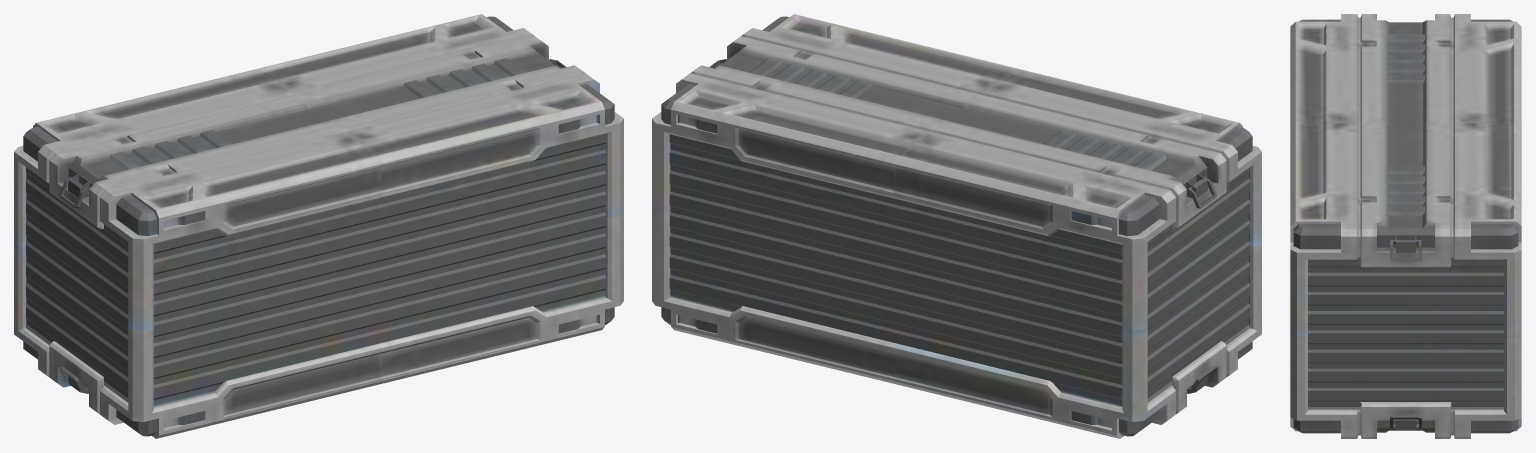
File: crate_l.glb
The picture shows the model from 3 angles, left to right: view 1: azimuth 30°, elevation 25°; view 2: azimuth 150°, elevation 25°; view 3: azimuth 270°, elevation 25°; orthographic projection. The views are drawn at different scales.
Parts seen in each view (by area): view 1: Prop_Crate_Large; view 2: Prop_Crate_Large; view 3: Prop_Crate_Large.
Part boxes in pixels (x1,y1,x2,y2): Prop_Crate_Large: (14,14,623,438); Prop_Crate_Large: (652,14,1261,438); Prop_Crate_Large: (1290,14,1521,438).
Bounding box in the file's own units: 3.47 × 1.5 × 1.5.
1 material, 1 textured.
